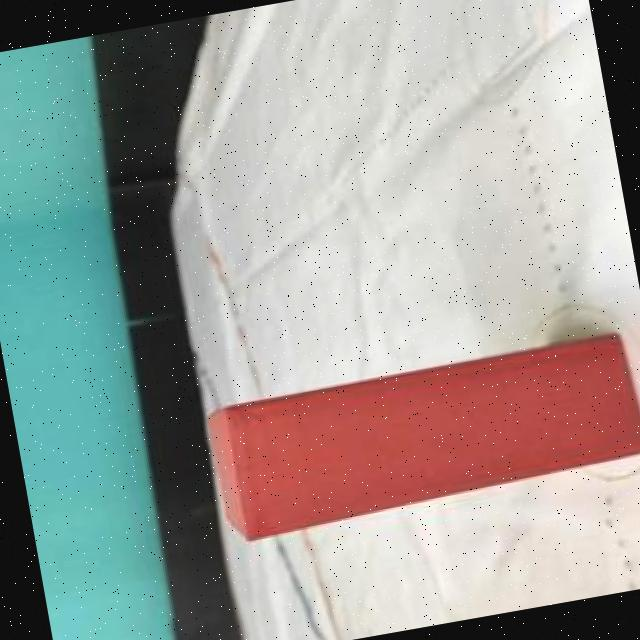redbox: (202, 328, 640, 535)
